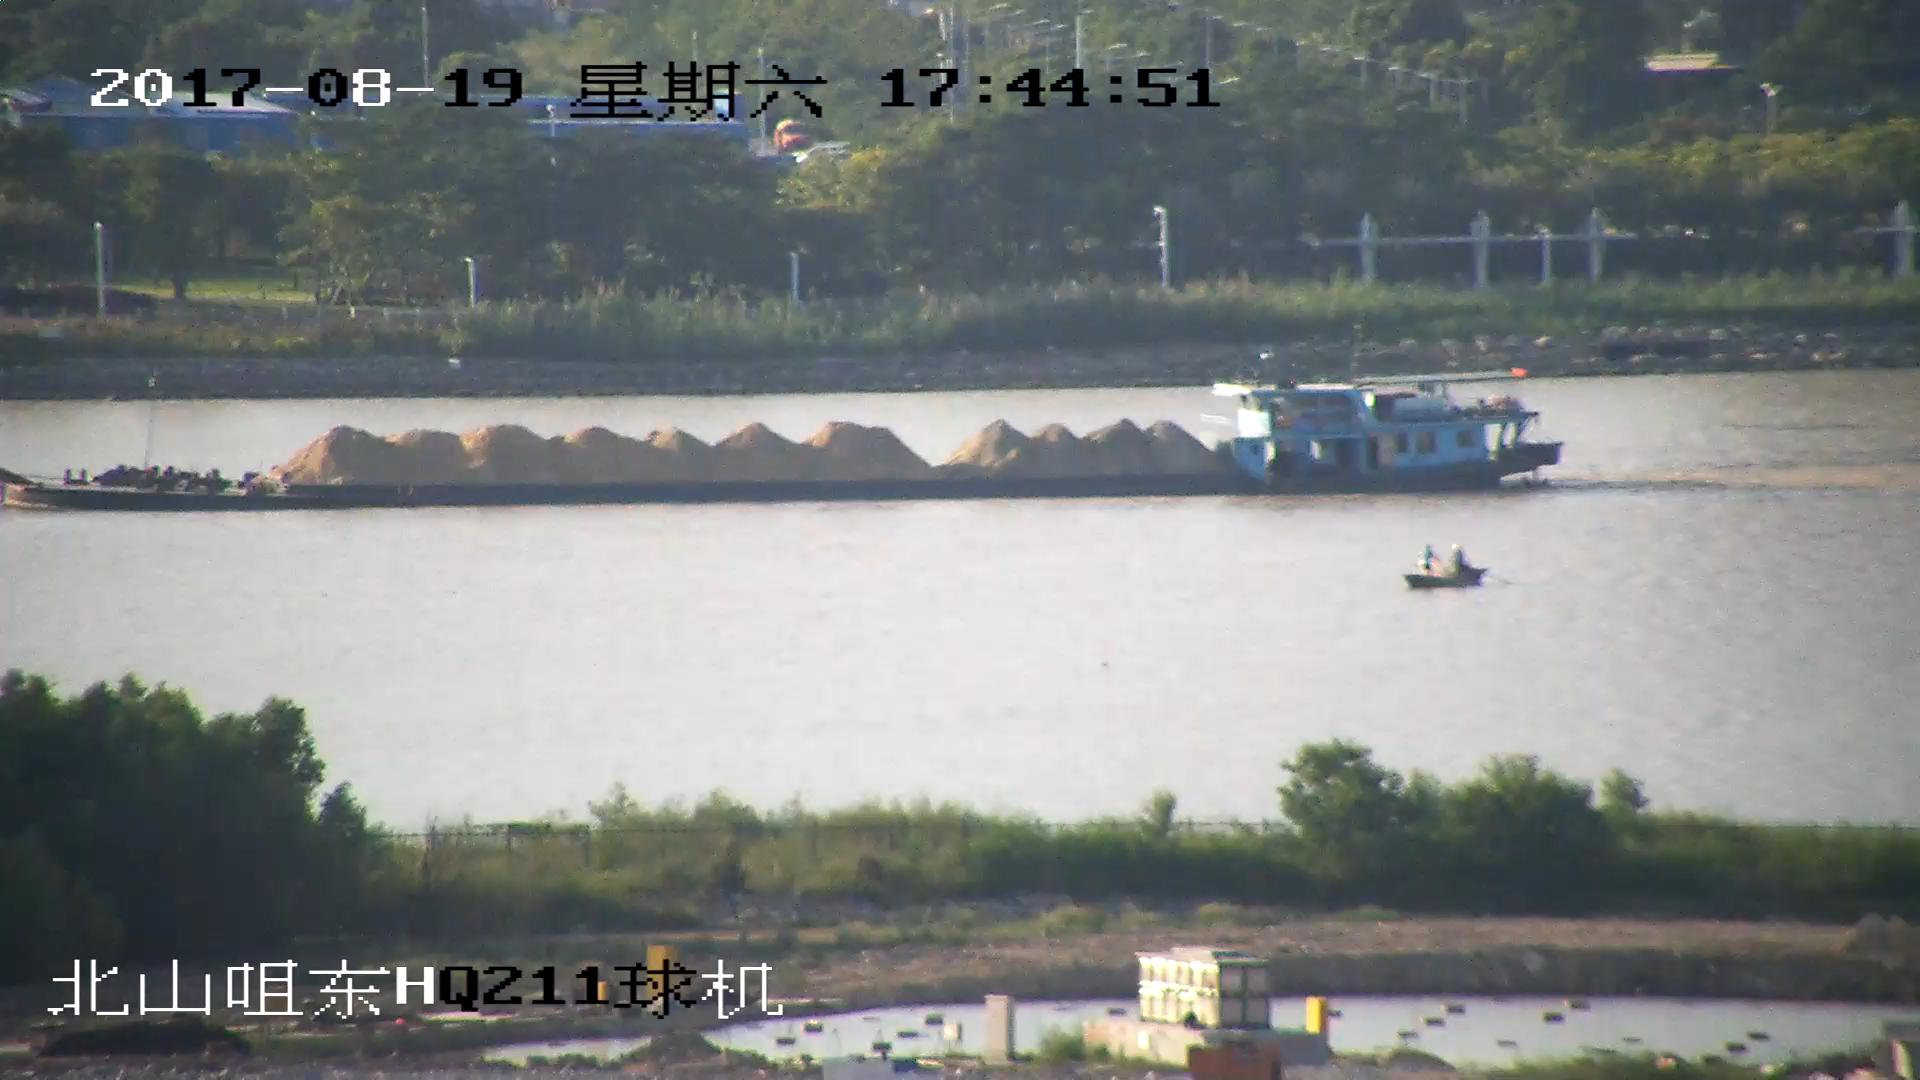fishing boat: (1400, 538, 1488, 596)
ore carrier: (1, 341, 1568, 510)
